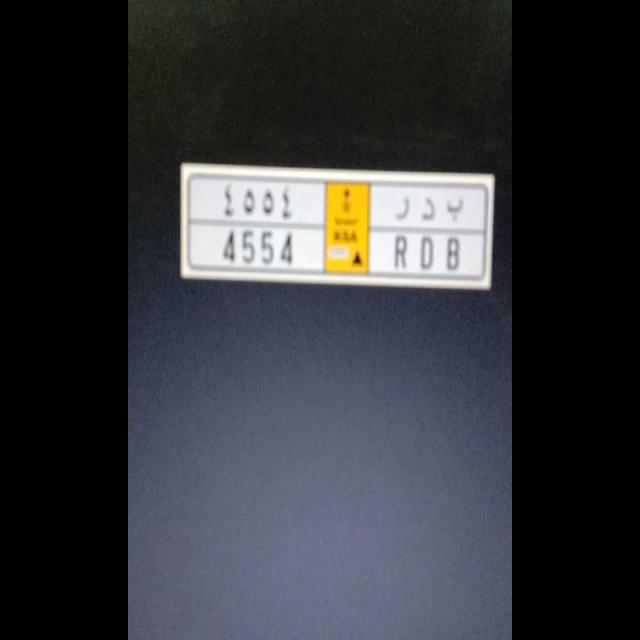license_plate: (188, 222, 484, 278)
